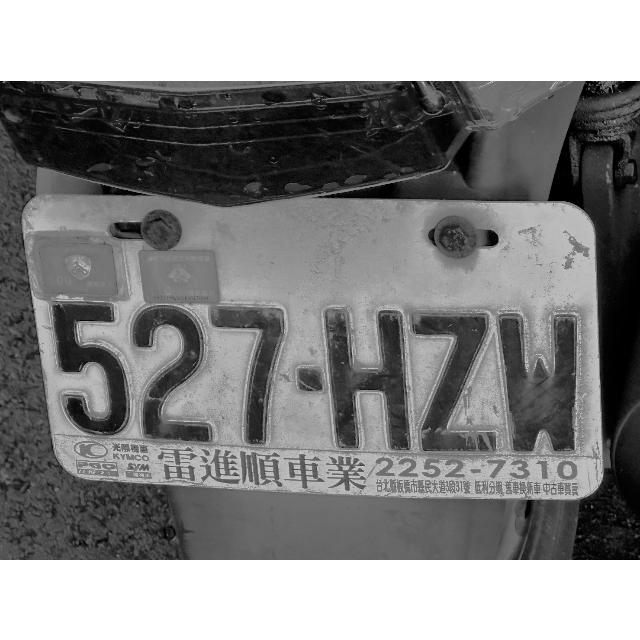-: (293, 363, 328, 399)
2: (125, 299, 219, 449)
5: (46, 296, 138, 442)
7: (207, 299, 295, 448)
H: (320, 302, 419, 453)
W: (492, 308, 589, 456)
Z: (408, 304, 508, 456)
